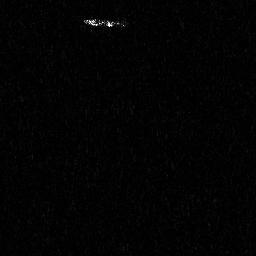ship: (83, 14, 126, 31)
